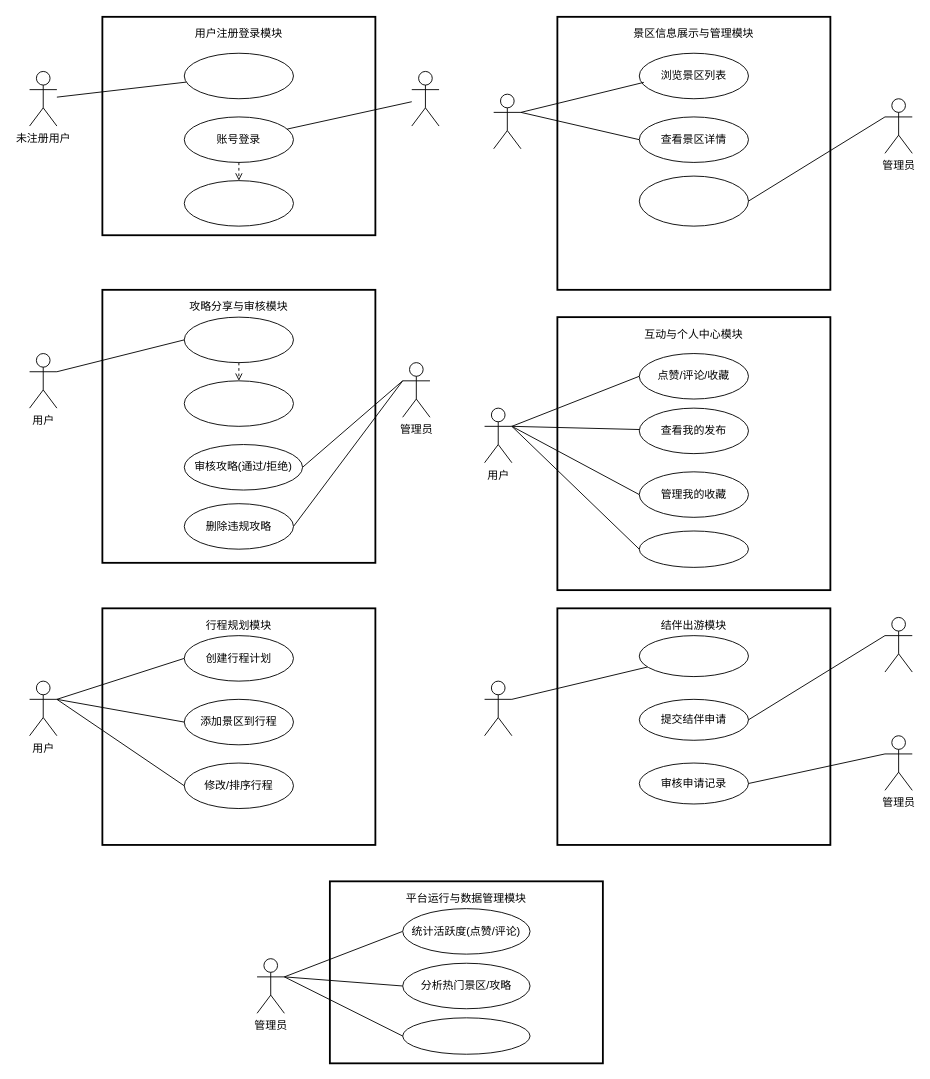
Image size: 930x1079. Some labels were removed from this diagram. Here are the shapes that lost their labels. From the top down, the centre of each, then its label:
[238,75]: 账号注册
[425,98]: 已注册用户
[507,121]: 普通游客
[238,203]: 维持登录状态
[693,200]: 维护景区数据(增删改)
[238,339]: 发布攻略内容
[238,403]: 上传封面图片
[693,548]: 退出登录
[693,656]: 发布结伴请求
[898,644]: 申请者
[498,708]: 发起者
[466,1035]: 管理预留积分/订单
